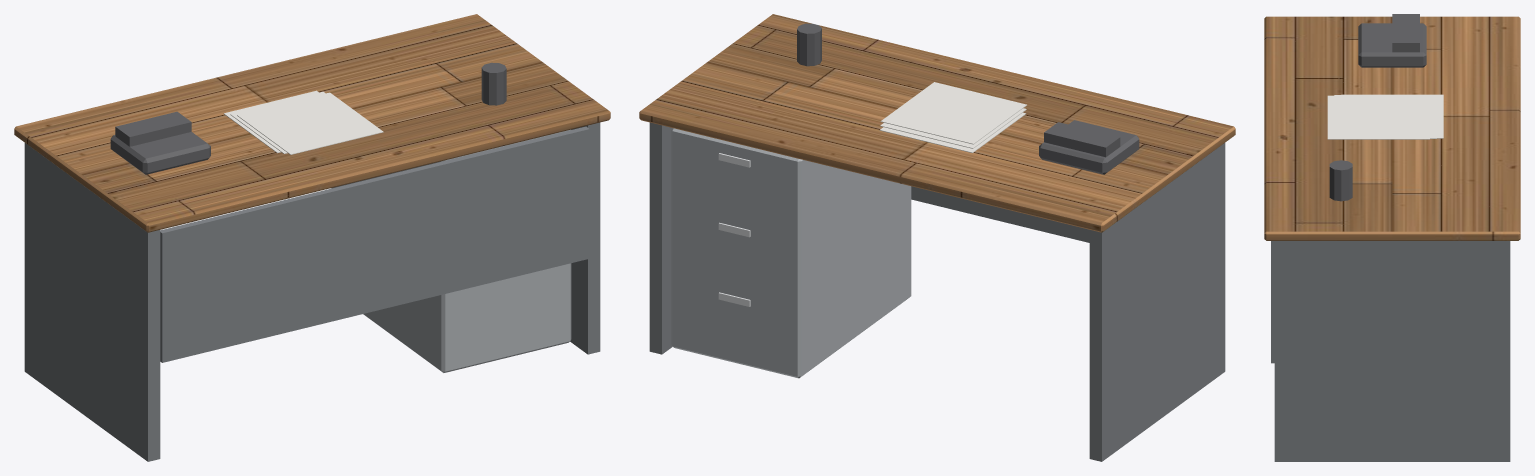
Rendered from desk.glb.
The picture shows the model from 3 angles, left to right: view 1: azimuth 30°, elevation 25°; view 2: azimuth 150°, elevation 25°; view 3: azimuth 270°, elevation 25°; orthographic projection. The views are drawn at different scales.
Visible parts, largest first — view 1: desk_steel_d, desk_wood, desk_steel, desk_paper, desk_dark; view 2: desk_wood, desk_steel, desk_steel_d, desk_paper, desk_dark, desk_chrome; view 3: desk_steel_d, desk_wood, desk_paper, desk_dark.
Boxes of the visible parts, x1,y1,x2,y2 form: desk_steel_d: (24, 122, 600, 461); desk_wood: (14, 14, 610, 232); desk_steel: (331, 129, 571, 372); desk_paper: (223, 90, 383, 154); desk_dark: (110, 62, 506, 174); desk_wood: (639, 14, 1235, 232); desk_steel: (671, 128, 911, 378); desk_steel_d: (649, 122, 1225, 461); desk_paper: (879, 82, 1026, 153); desk_dark: (797, 23, 1139, 174); desk_chrome: (718, 153, 750, 306); desk_steel_d: (1271, 241, 1510, 461); desk_wood: (1264, 16, 1520, 240); desk_paper: (1327, 94, 1443, 139); desk_dark: (1329, 14, 1426, 201).
Bounding box in the file's own units: 1.5 × 0.85 × 0.75.
Materials: 6 (1 with a texture image).
